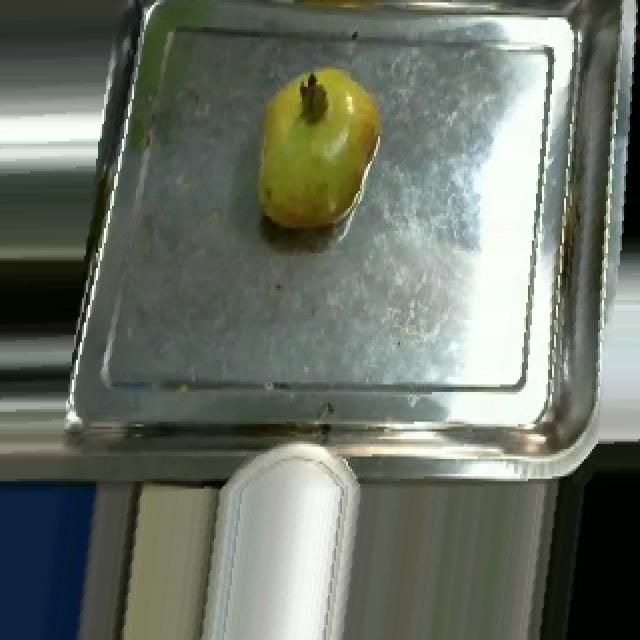fruit: (240, 54, 394, 246)
